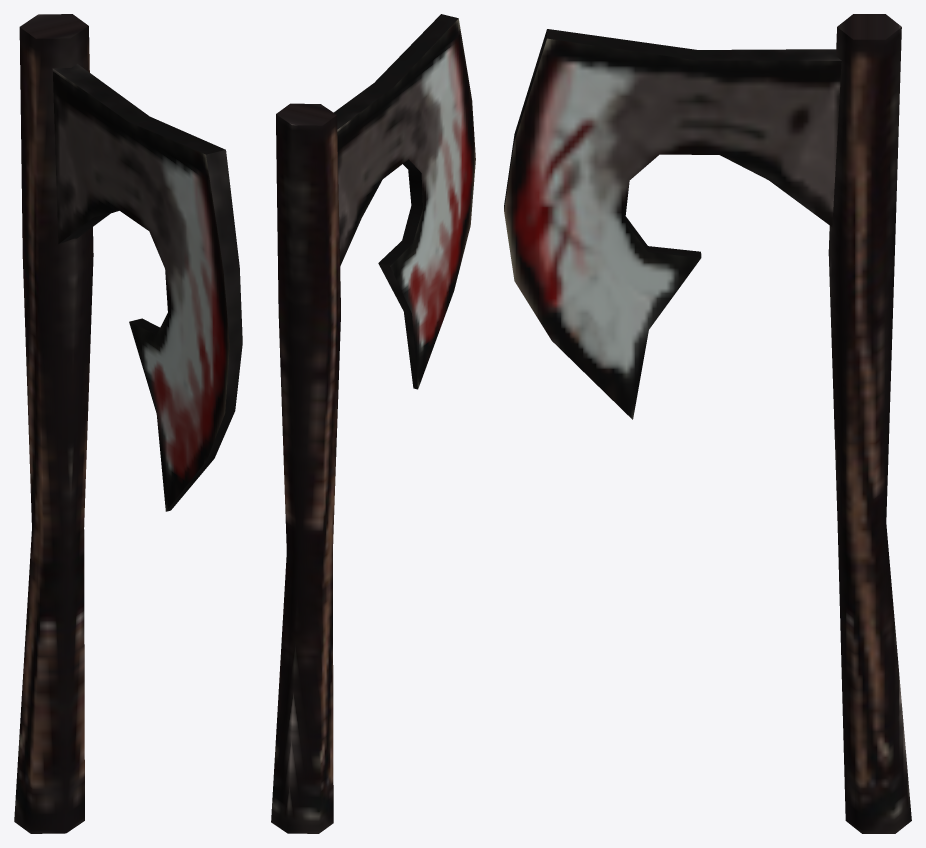
Rendered from WP_1H_Axe.FBX.
The picture shows the model from 3 angles, left to right: view 1: azimuth 30°, elevation 25°; view 2: azimuth 150°, elevation 25°; view 3: azimuth 270°, elevation 25°; orthographic projection. The views are drawn at different scales.
Parts seen in each view (by area): view 1: WP_1H_Axe; view 2: WP_1H_Axe; view 3: WP_1H_Axe.
Boxes of the visible parts, x1,y1,x2,y2 form: WP_1H_Axe: (14,14,242,833); WP_1H_Axe: (271,14,475,833); WP_1H_Axe: (504,14,911,833).
Bounding box in the file's own units: 5.16 × 72.69 × 33.84.
